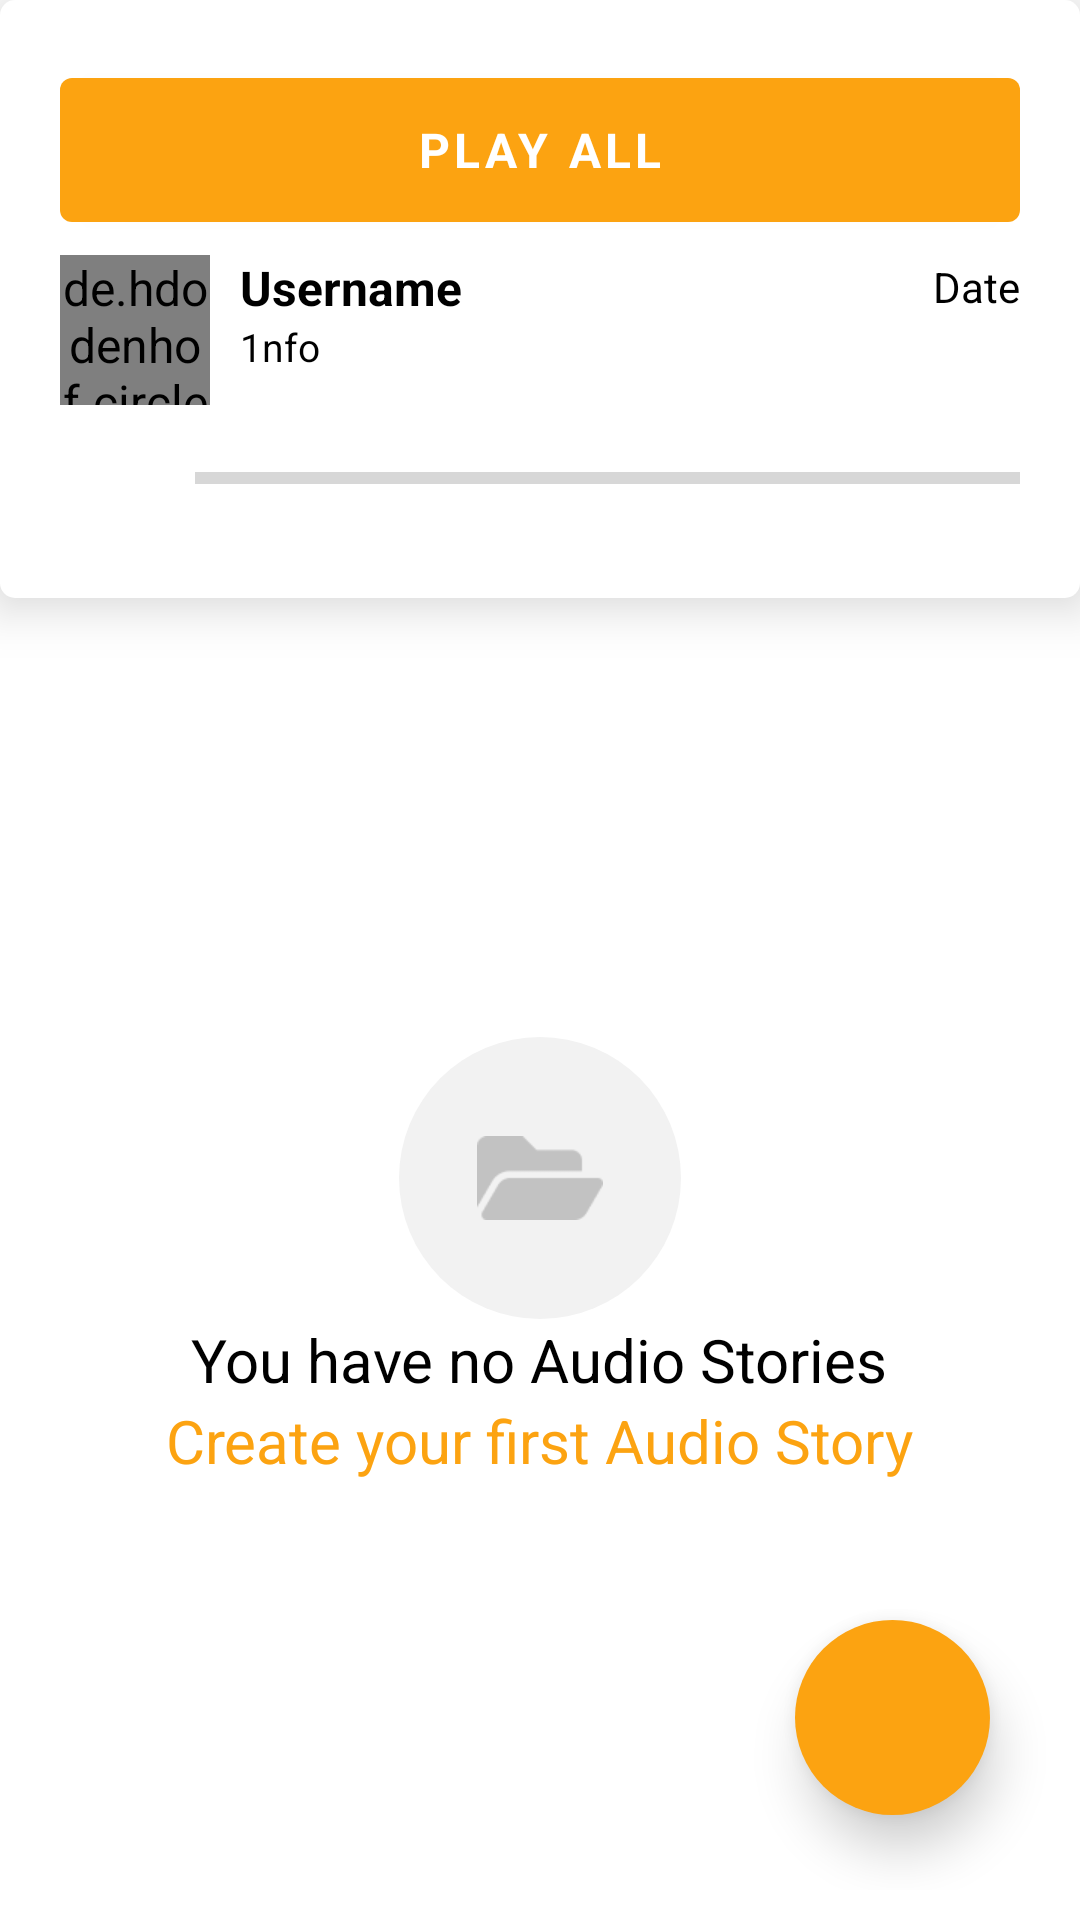

Where icons sit on this 1080*1920 app screen, as Rect(x1, y1, x2, y2):
empty folder: Rect(477, 1136, 603, 1220)
